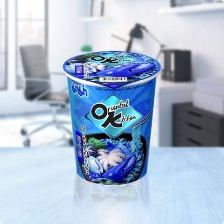paper_cup: (59, 46, 163, 189)
